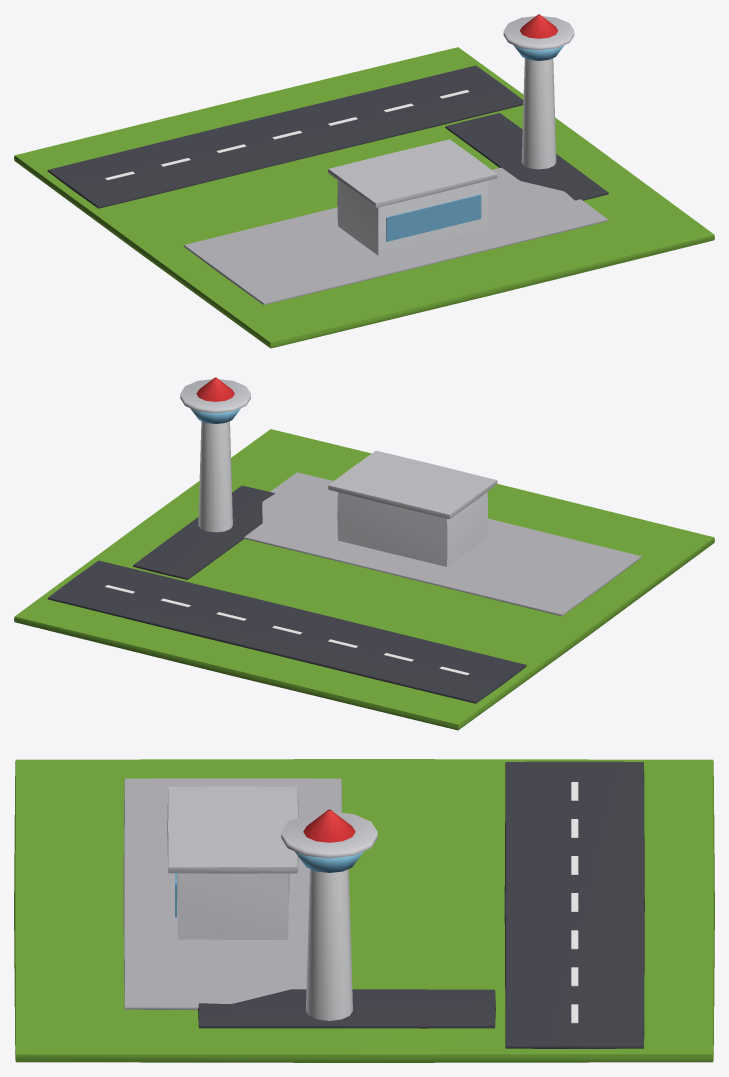
Rendered from Airport_L1.obj.
The picture shows the model from 3 angles, top to bottom: view 1: azimuth 30°, elevation 25°; view 2: azimuth 150°, elevation 25°; view 3: azimuth 270°, elevation 25°; orthographic projection. The views are drawn at different scales.
Visible parts, largest first — view 1: Airport_L1; view 2: Airport_L1; view 3: Airport_L1.
Boxes of the visible parts, box(x1,y1,x2,y2) form: Airport_L1: box(14, 14, 714, 348); Airport_L1: box(14, 377, 714, 730); Airport_L1: box(14, 759, 714, 1062).
Bounding box in the file's own units: 8 × 2.69 × 8.
Materials: 1 (1 with a texture image).
